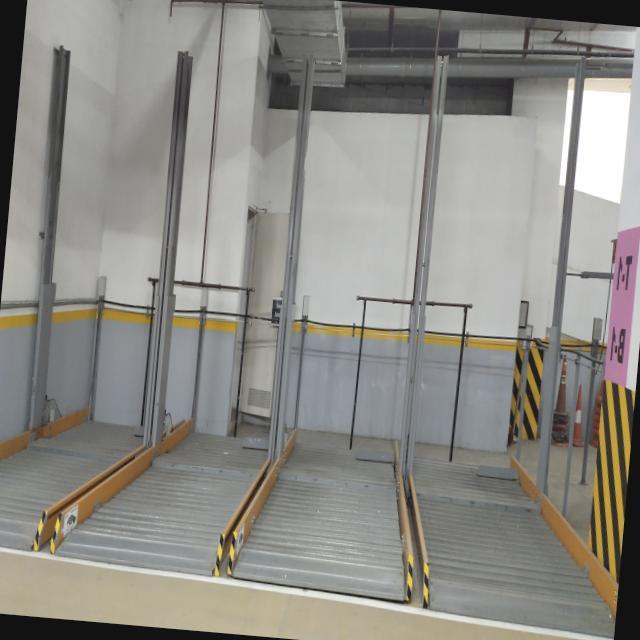free: (270, 444, 401, 599), (116, 440, 262, 560), (436, 458, 542, 610), (0, 418, 125, 538)
